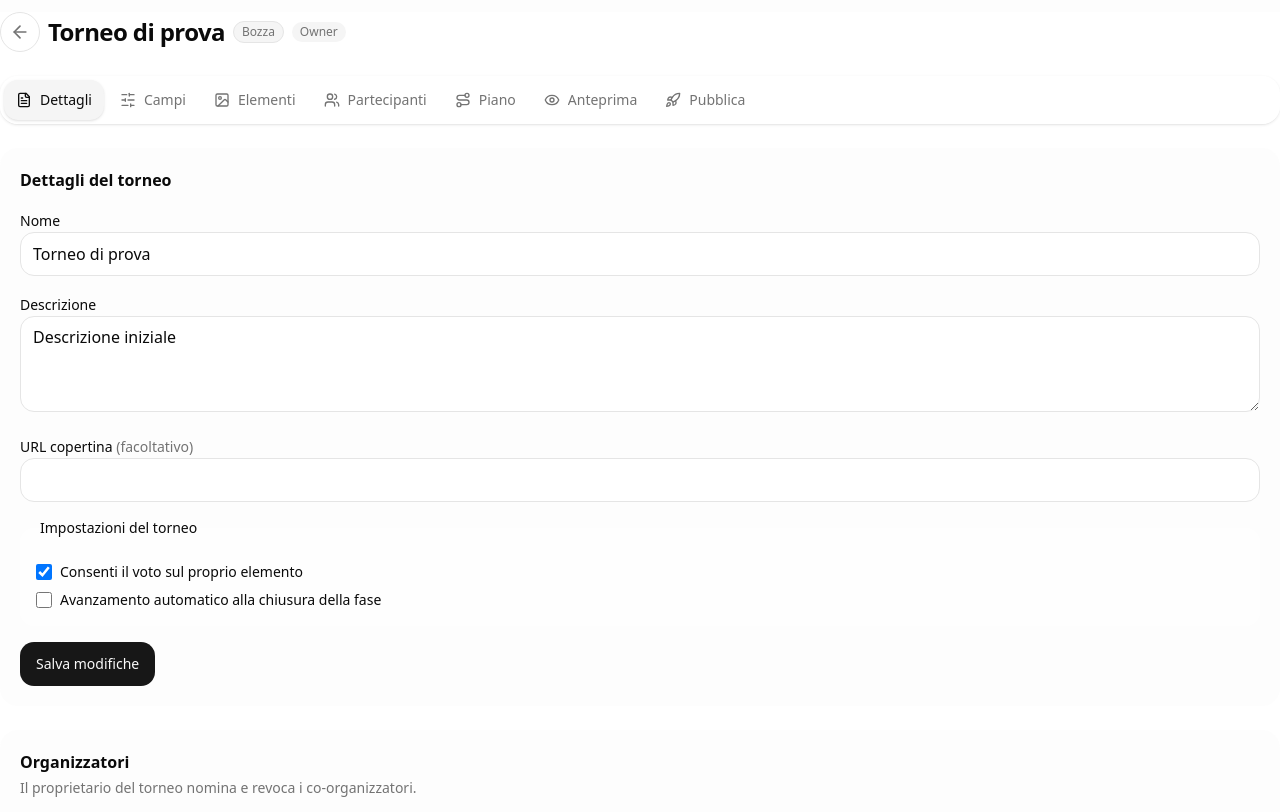
Test: TournamentDetailView › mostra la bozza agli organizzatori e ne salva le modifiche
This screenshot has width=1280, height=812.
Expected: the button with id "tab-details" reads "Dettagli", 4,80 -> 104,120
Expected: the button with id "tab-elements" reads "Elementi", 202,80 -> 308,120
Replace the text in the field with id "edit-name" with "Torneo rinominato" at (640, 254), box 20,232 -> 1260,276
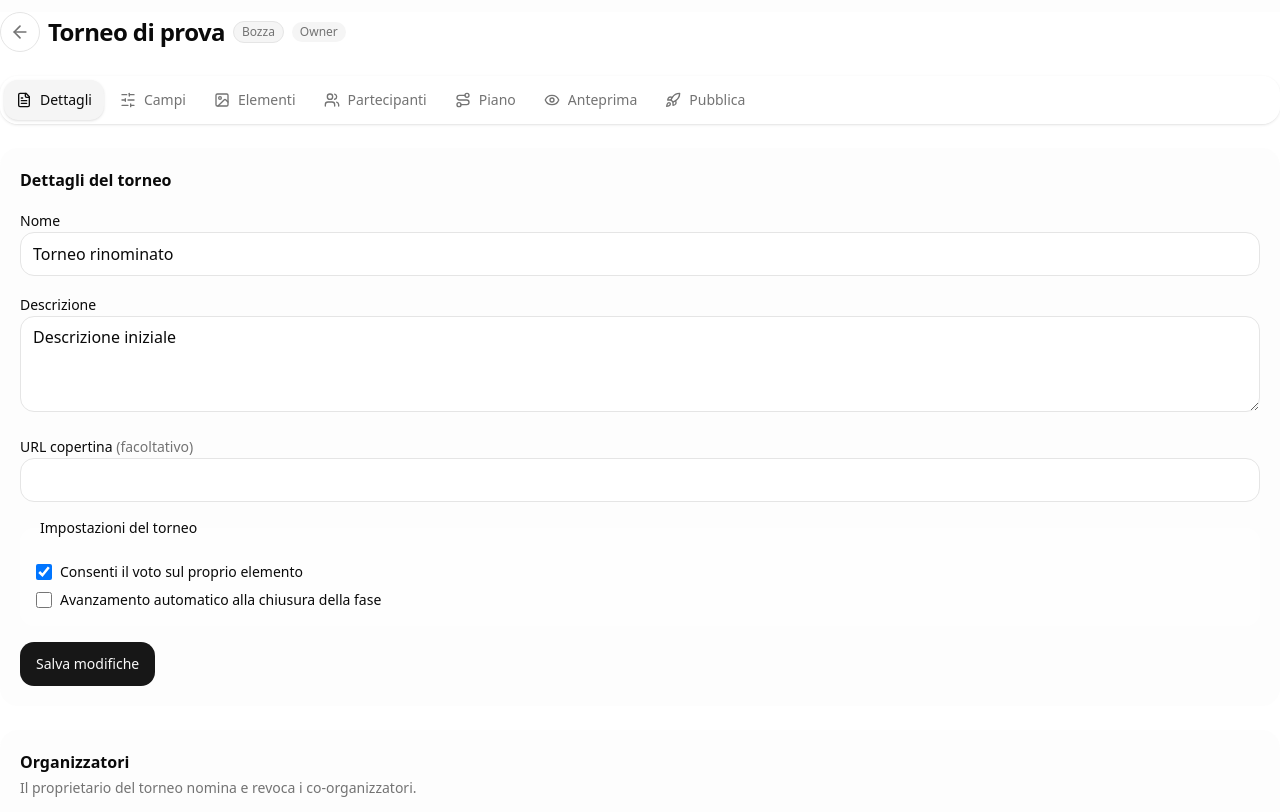
Replace the text in the text box with id "edit-description" with "Nuova descrizione" at (640, 364), box 20,316 -> 1260,412
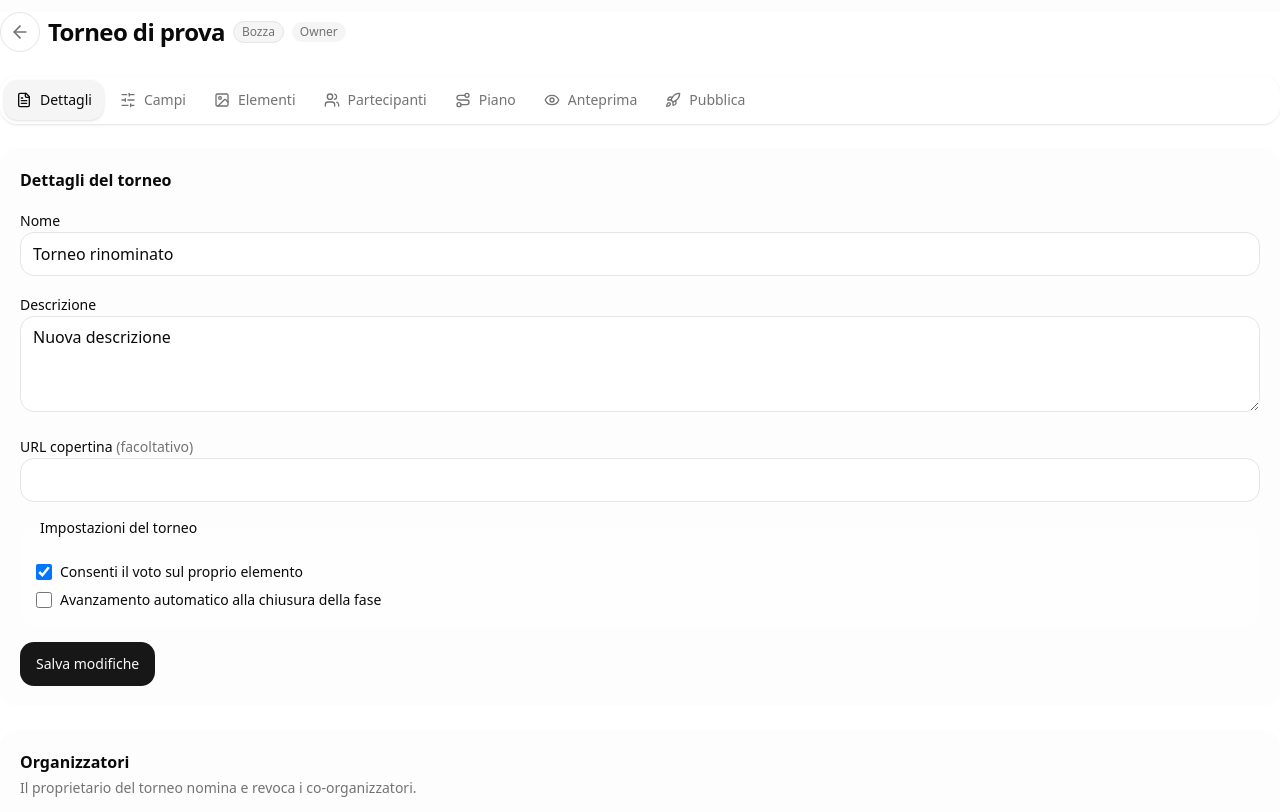
Submit the form with id "tournament-edit-form", box 20,208 -> 1260,686
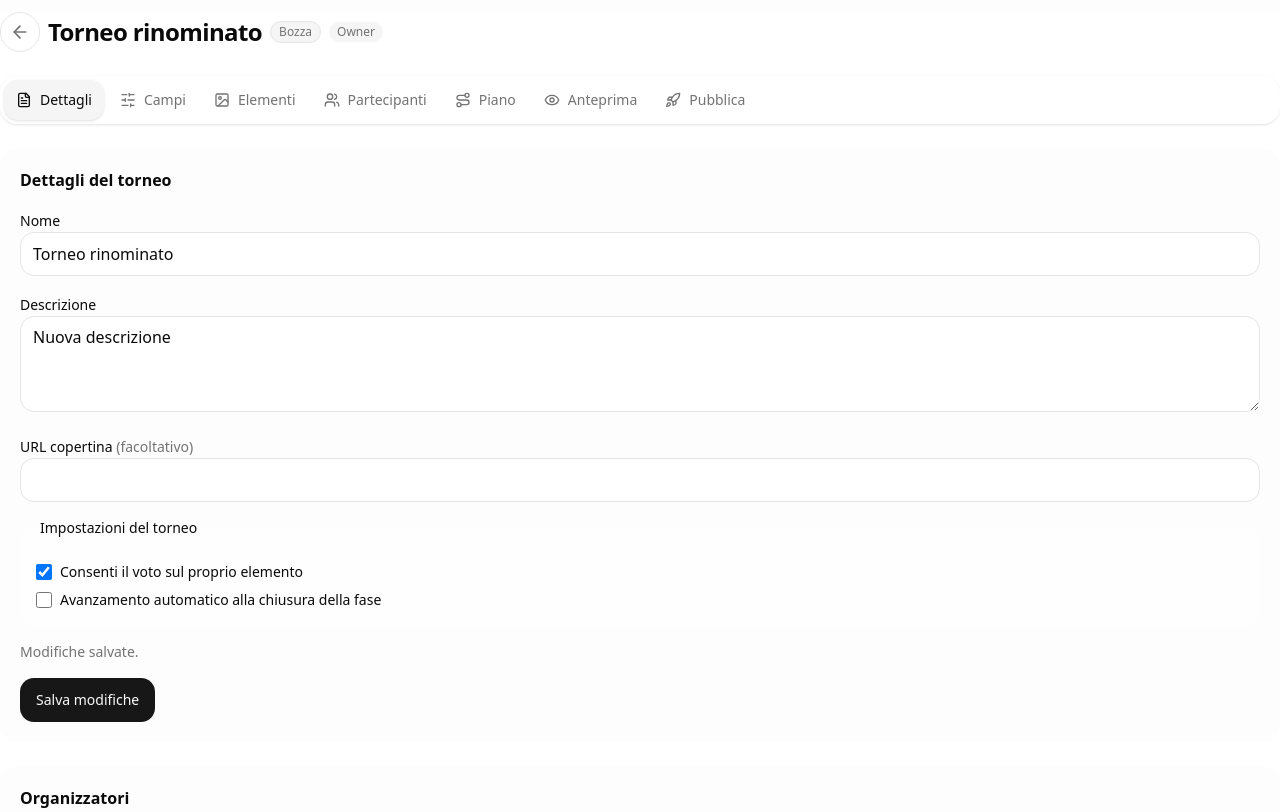
Expected: the text "Torneo rinominato" is shown, 48,16 -> 262,48
Expected: the message "Modifiche salvate." is shown, 20,642 -> 139,661
